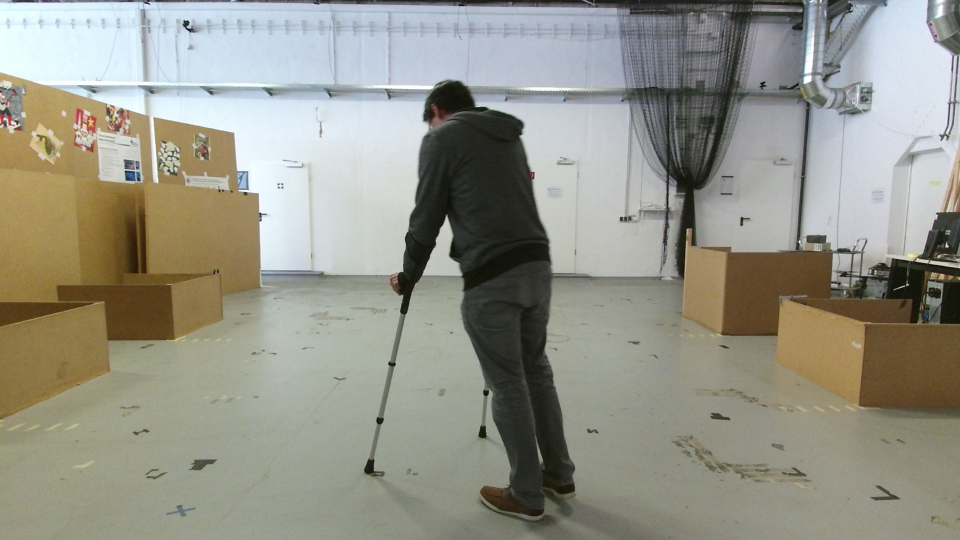crutches: (358, 76, 575, 523)
